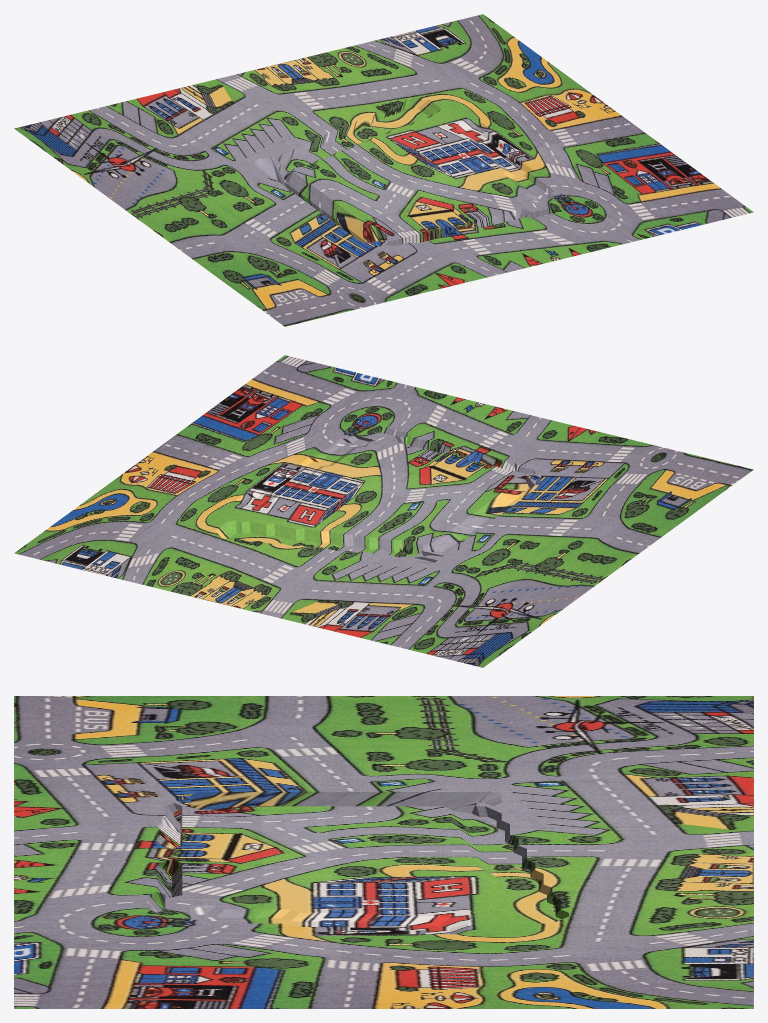
The model's file is terrain_1.dae.
The picture shows the model from 3 angles, top to bottom: view 1: azimuth 30°, elevation 25°; view 2: azimuth 150°, elevation 25°; view 3: azimuth 270°, elevation 25°; orthographic projection. The views are drawn at different scales.
Parts seen in each view (by area): view 1: Plane; view 2: Plane; view 3: Plane.
Boxes of the visible parts, left/top/right/bottom form: Plane: left=14, top=14, right=753, bottom=326; Plane: left=14, top=355, right=753, bottom=667; Plane: left=14, top=696, right=753, bottom=1008.
Size of the model in its own units: 81.02 by 81.02 by 3.87.
Materials: 1 (1 with a texture image).
